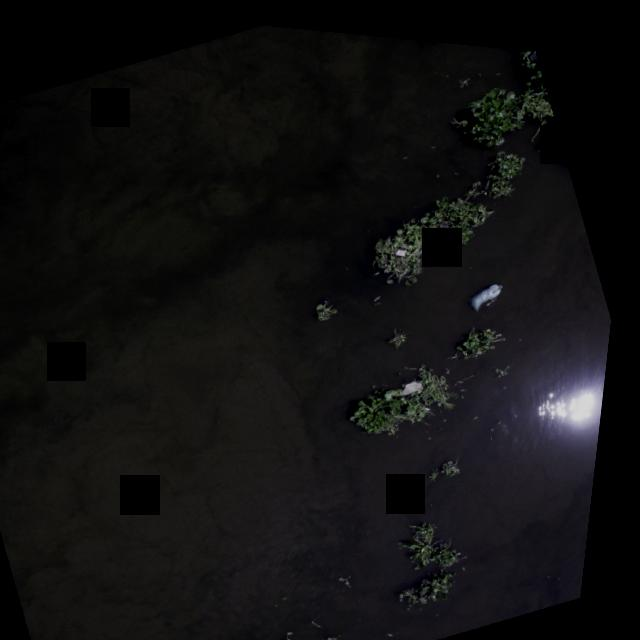plastic: (387, 358, 438, 397), (467, 265, 516, 303), (390, 233, 414, 253), (421, 224, 439, 241), (322, 607, 337, 623), (398, 619, 409, 629)
